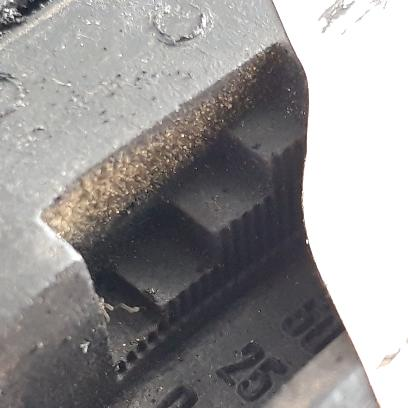temoin:100: (41, 45, 330, 386)
